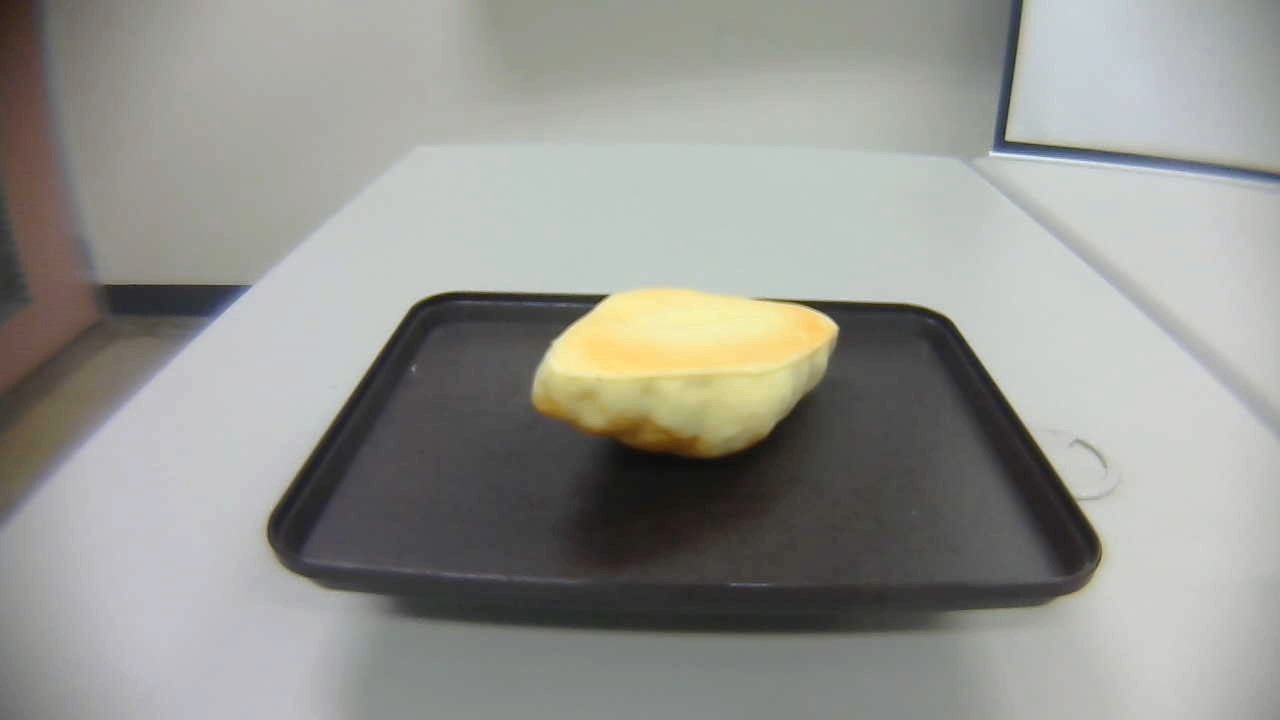croissant: (530, 289, 838, 456)
